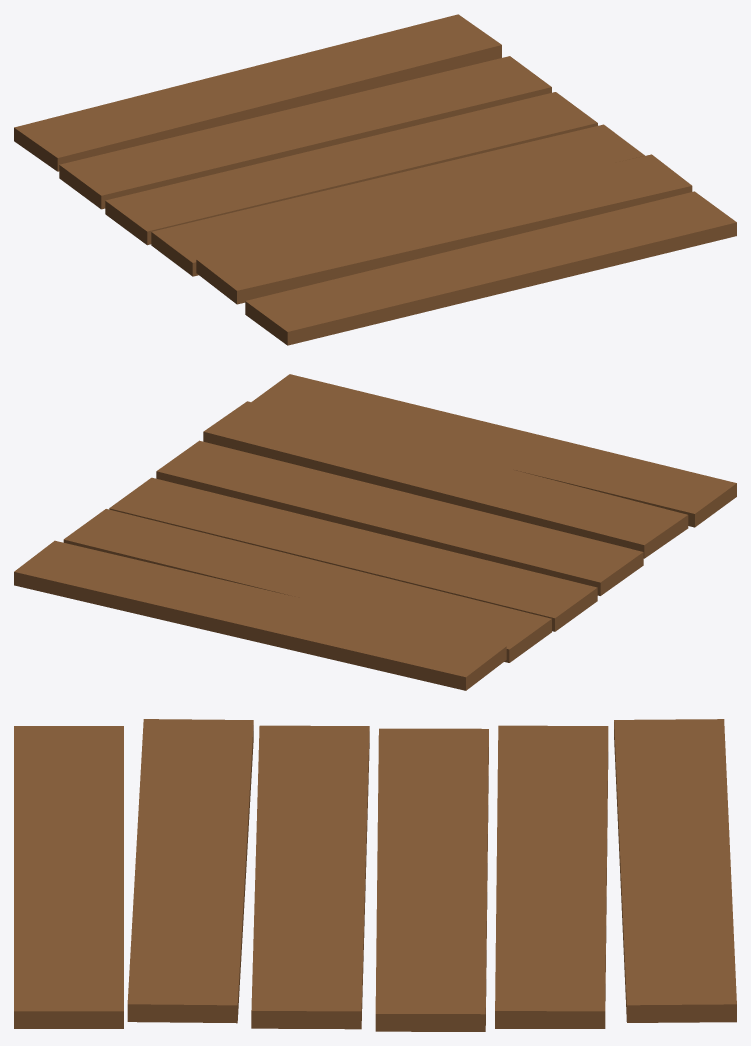
File: jettiboard_01_a.fbx
The picture shows the model from 3 angles, top to bottom: view 1: azimuth 30°, elevation 25°; view 2: azimuth 150°, elevation 25°; view 3: azimuth 270°, elevation 25°; orthographic projection. The views are drawn at different scales.
Visible parts, largest first — view 1: JettiBoard_01_a; view 2: JettiBoard_01_a; view 3: JettiBoard_01_a.
Part boxes in pixels (bbox=[...]): JettiBoard_01_a: bbox=[14, 14, 736, 345]; JettiBoard_01_a: bbox=[14, 374, 736, 690]; JettiBoard_01_a: bbox=[14, 719, 736, 1031].
Bounding box in the file's own units: 41.61 × 44.4 × 1.83.
